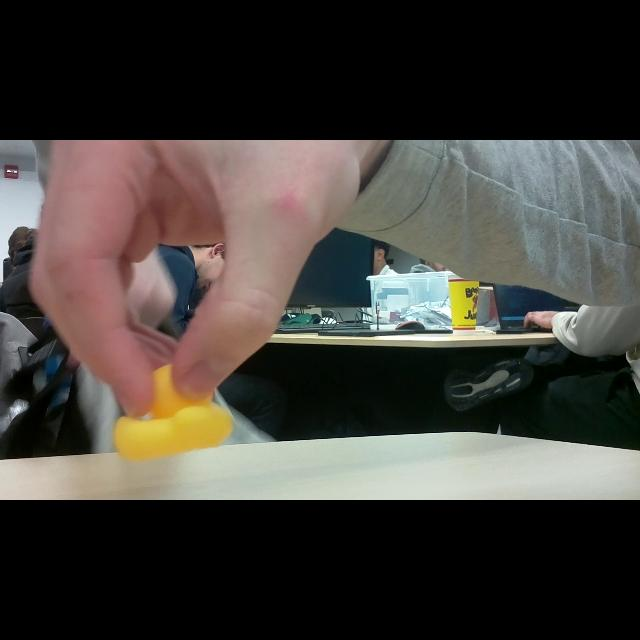duck_regular: (115, 365, 236, 460)
